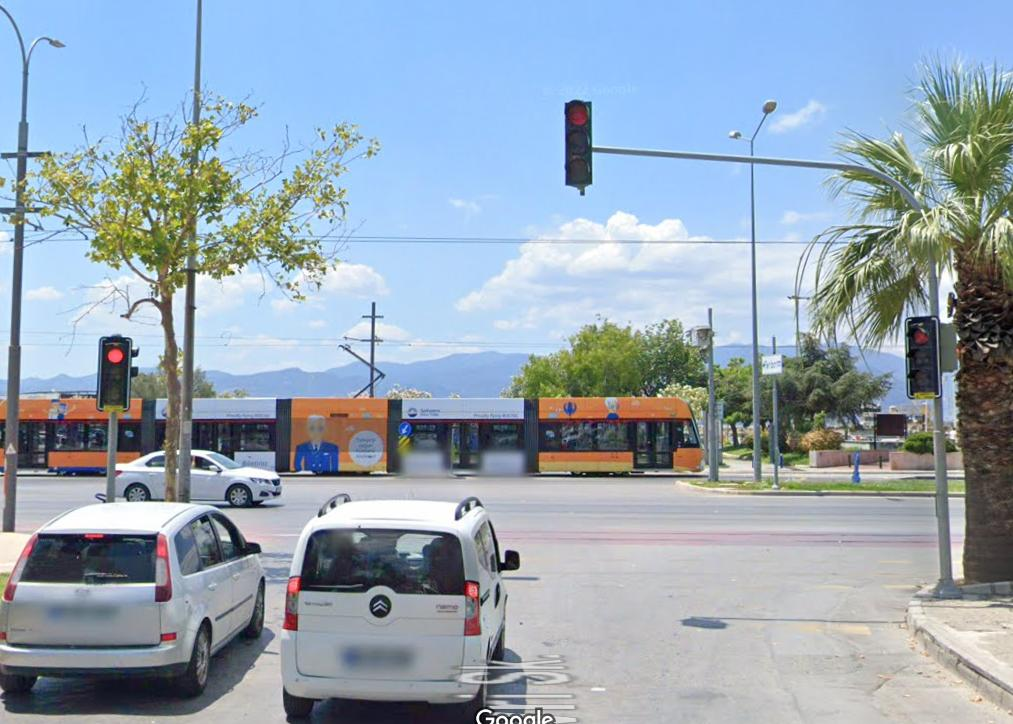redlight: (561, 97, 598, 192), (902, 316, 939, 400), (97, 338, 133, 412)
